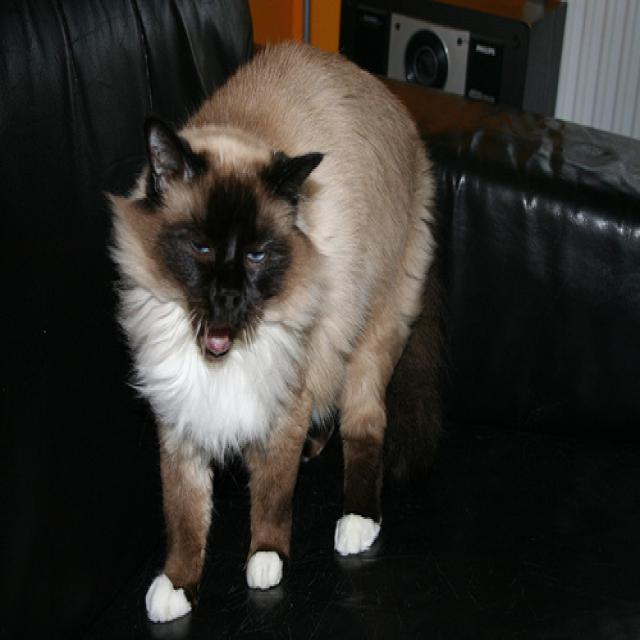Birman: (112, 106, 330, 465)
